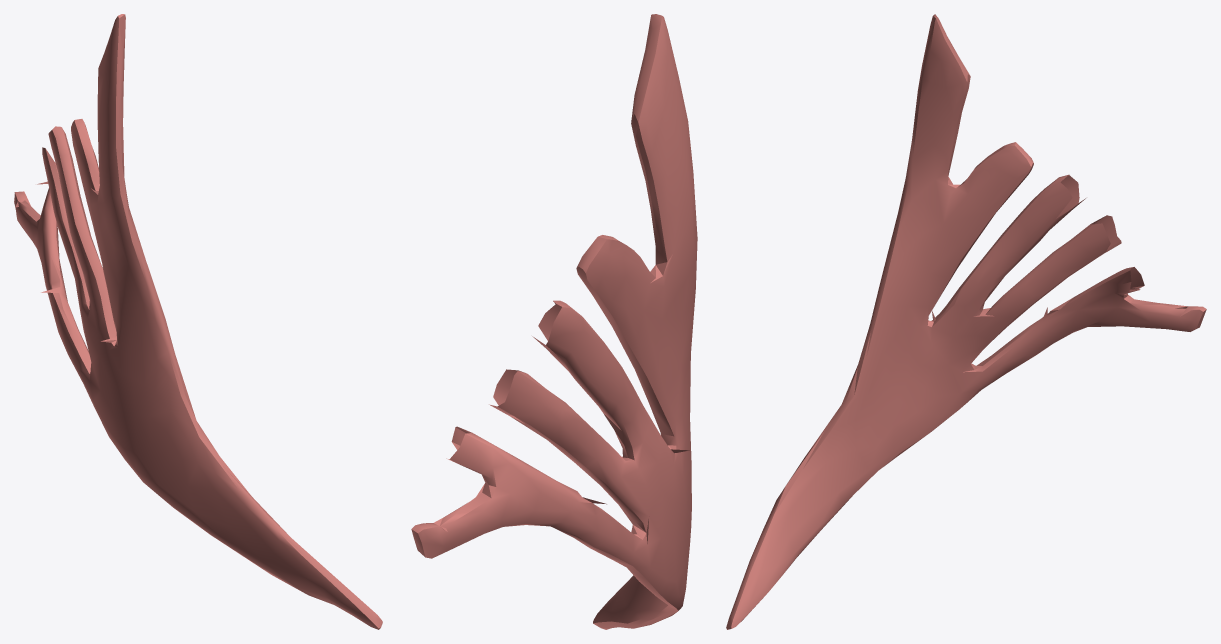
File: fma46597_mm1193m.glb
The picture shows the model from 3 angles, left to right: view 1: azimuth 30°, elevation 25°; view 2: azimuth 150°, elevation 25°; view 3: azimuth 270°, elevation 25°; orthographic projection. The views are drawn at different scales.
Parts seen in each view (by area): view 1: FMA46597_MM1193M; view 2: FMA46597_MM1193M; view 3: FMA46597_MM1193M.
Part boxes in pixels (left/top/right/bottom): FMA46597_MM1193M: left=14, top=14, right=382, bottom=629; FMA46597_MM1193M: left=411, top=14, right=697, bottom=629; FMA46597_MM1193M: left=726, top=14, right=1206, bottom=629.
Size of the model in its own units: 0.00757 by 0.0233 by 0.0186.
